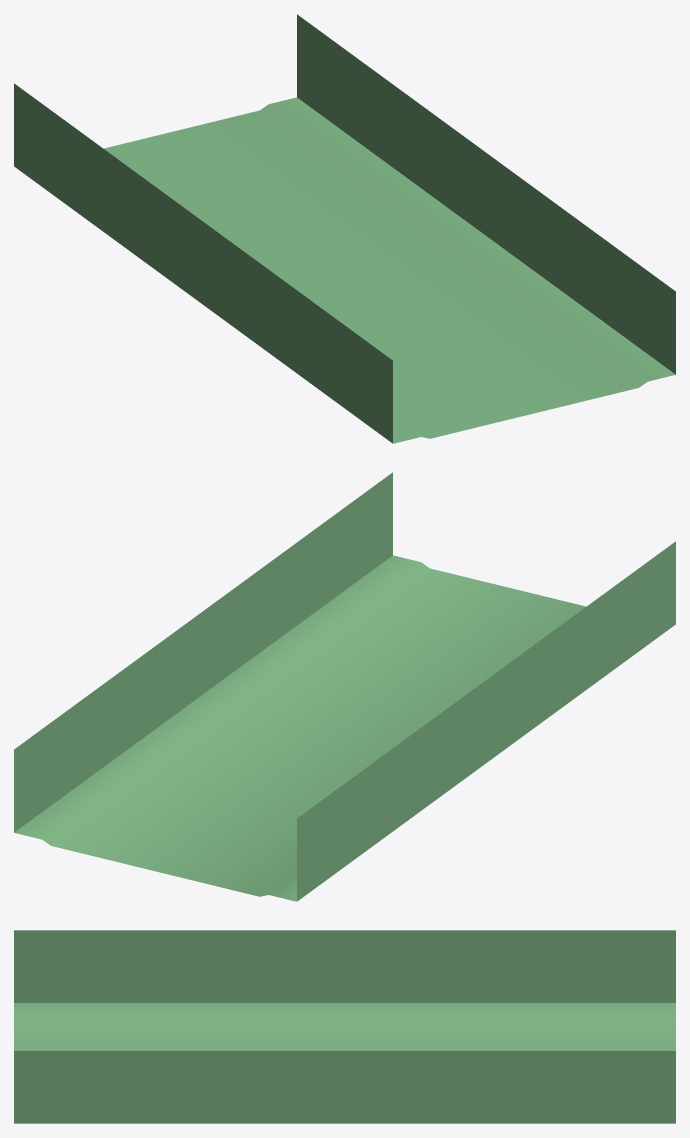
File: Bridge_I_16_A_COL.fbx
3 views of the same model, one above another, from view 1: azimuth 30°, elevation 25°; view 2: azimuth 150°, elevation 25°; view 3: azimuth 270°, elevation 25° (orthographic). The views are drawn at different scales.
Parts seen in each view (by area): view 1: Bridge_I_16_A_COL; view 2: Bridge_I_16_A_COL; view 3: Bridge_I_16_A_COL.
Boxes of the visible parts, box(x1,y1,x2,y2) form: Bridge_I_16_A_COL: box(14, 14, 675, 443); Bridge_I_16_A_COL: box(14, 472, 675, 901); Bridge_I_16_A_COL: box(14, 930, 675, 1123).
Bounding box in the file's own units: 690 × 203 × 1600.
